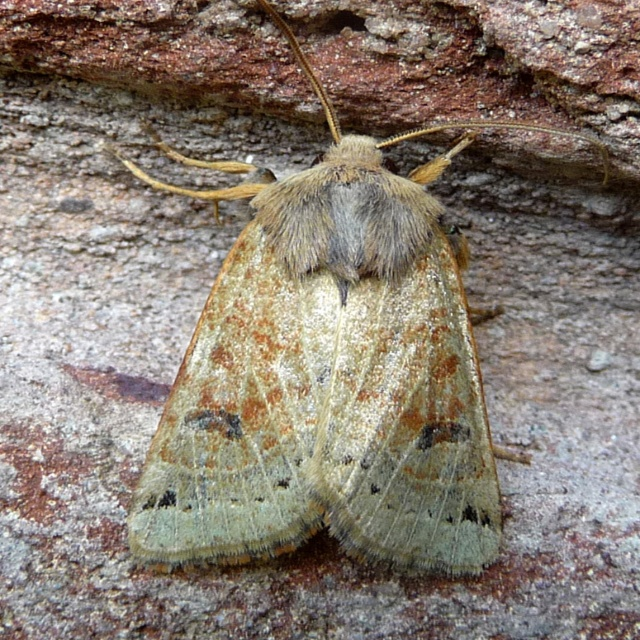Butterfly: (130, 32, 534, 623)
